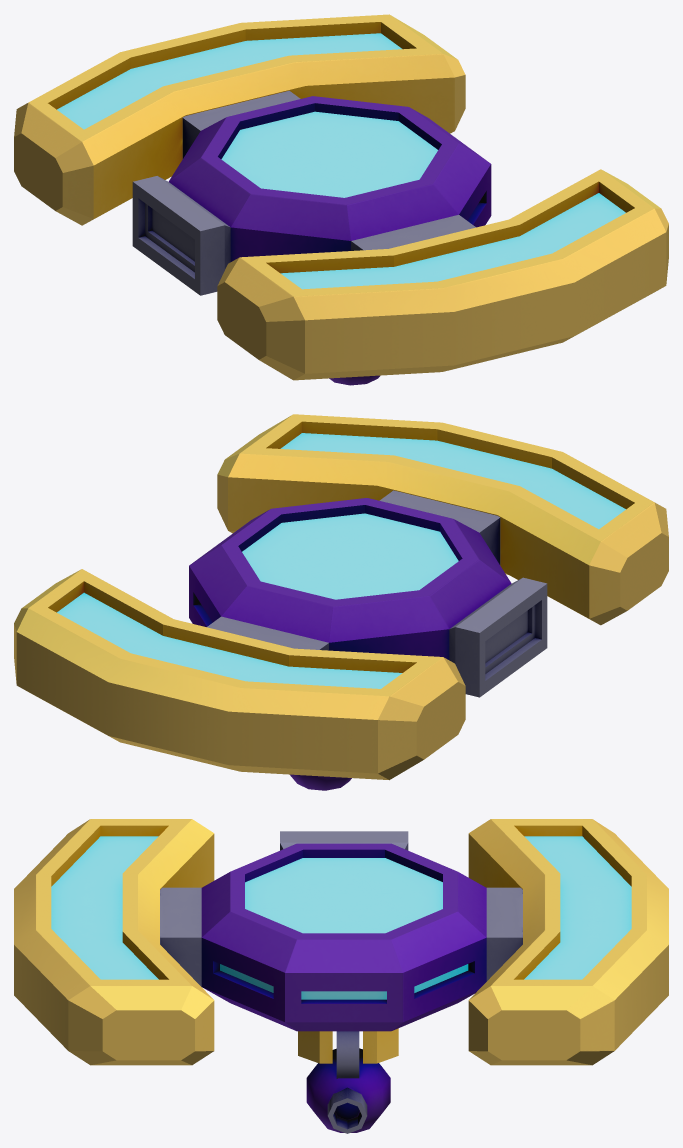
Rendered from enemy_2.obj.
The picture shows the model from 3 angles, top to bottom: view 1: azimuth 30°, elevation 25°; view 2: azimuth 150°, elevation 25°; view 3: azimuth 270°, elevation 25°; orthographic projection. The views are drawn at different scales.
Visible parts, largest first — view 1: Cylinder001; view 2: Cylinder001; view 3: Cylinder001.
Part boxes in pixels (x1=…): Cylinder001: x1=14, y1=14, x2=668, y2=385; Cylinder001: x1=14, y1=414, x2=668, y2=790; Cylinder001: x1=14, y1=819, x2=668, y2=1133.
Size of the model in its own units: 143 by 81.51 by 213.
Materials: 1 (1 with a texture image).
